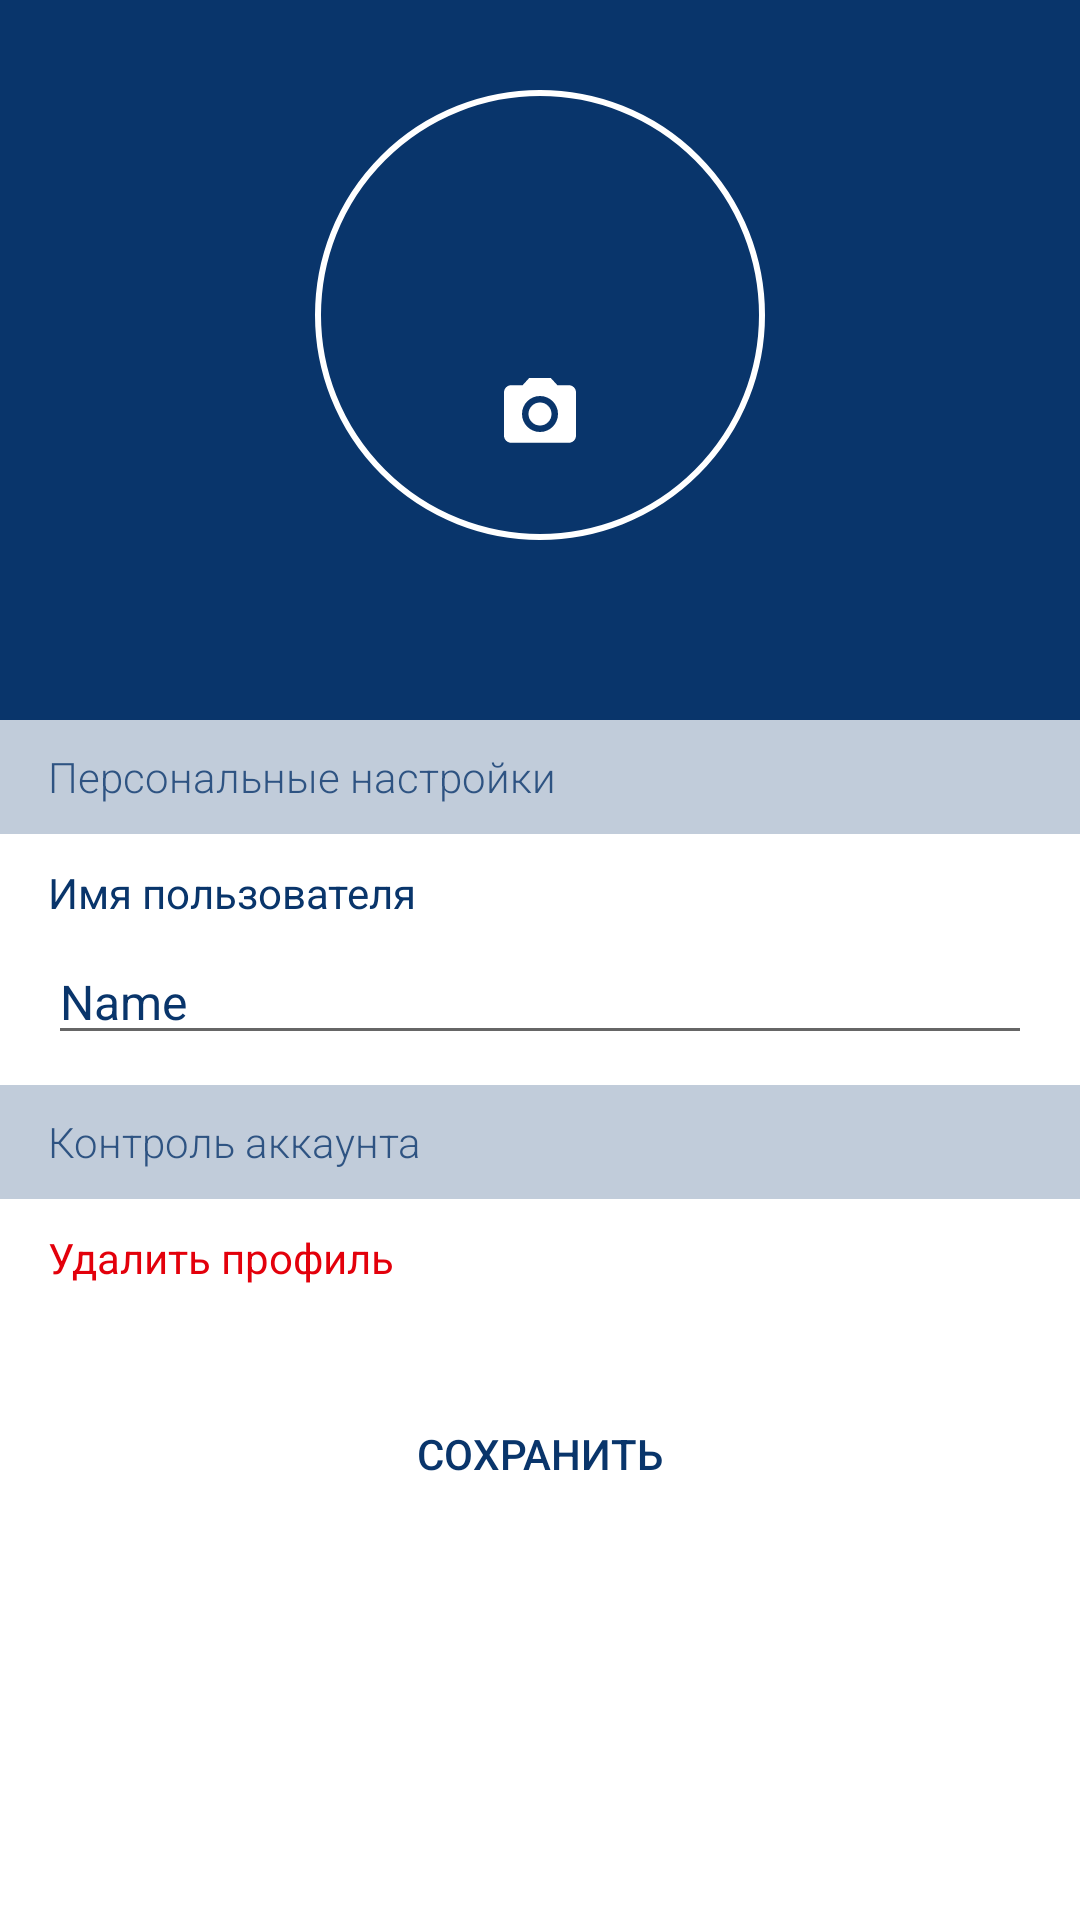

Screen size 1080px x 1920px. Icon name, then its center in pixels as point (x, y):
photo: point (540, 410)
